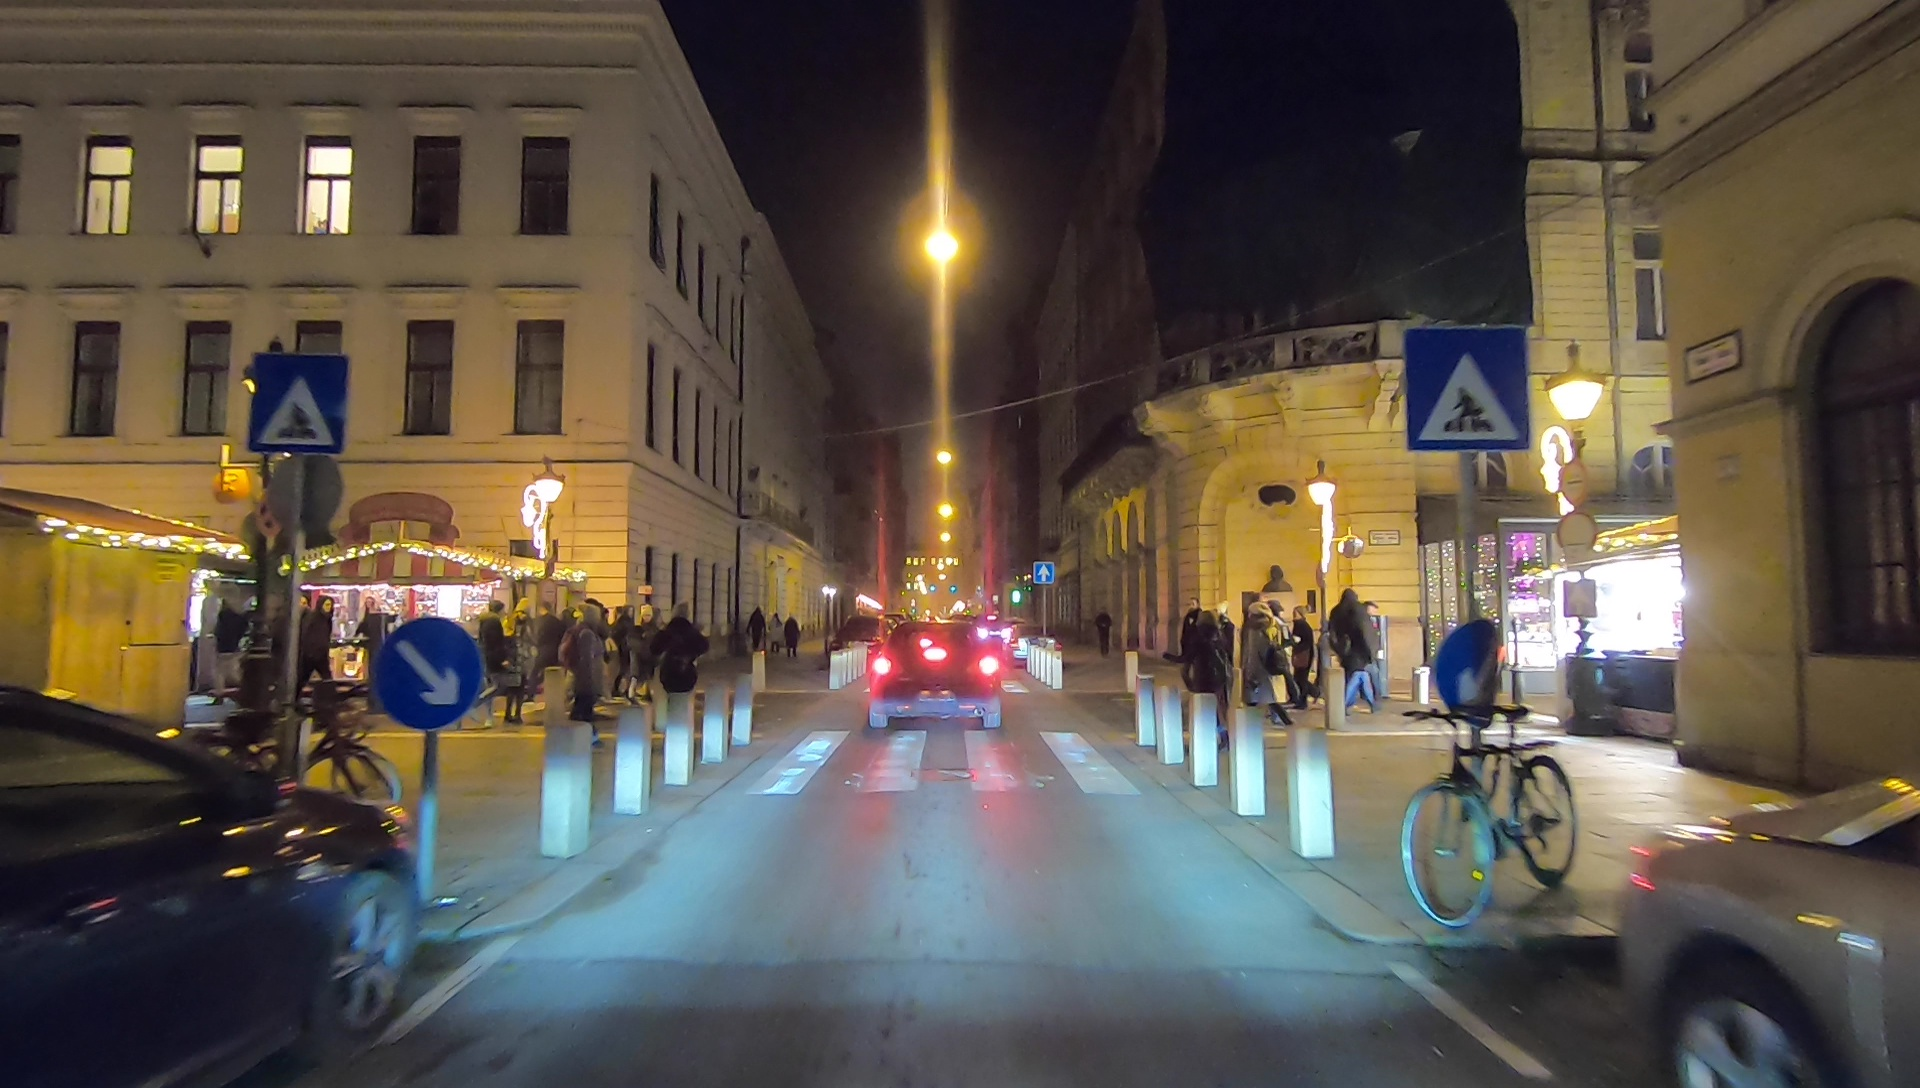person: (1239, 606, 1289, 741), (1326, 587, 1378, 708), (1186, 610, 1228, 728), (565, 613, 604, 737), (473, 597, 510, 728), (506, 600, 538, 728), (665, 611, 702, 717), (634, 606, 656, 710), (767, 611, 789, 671), (1091, 611, 1114, 652), (782, 615, 802, 663), (747, 604, 765, 656)
